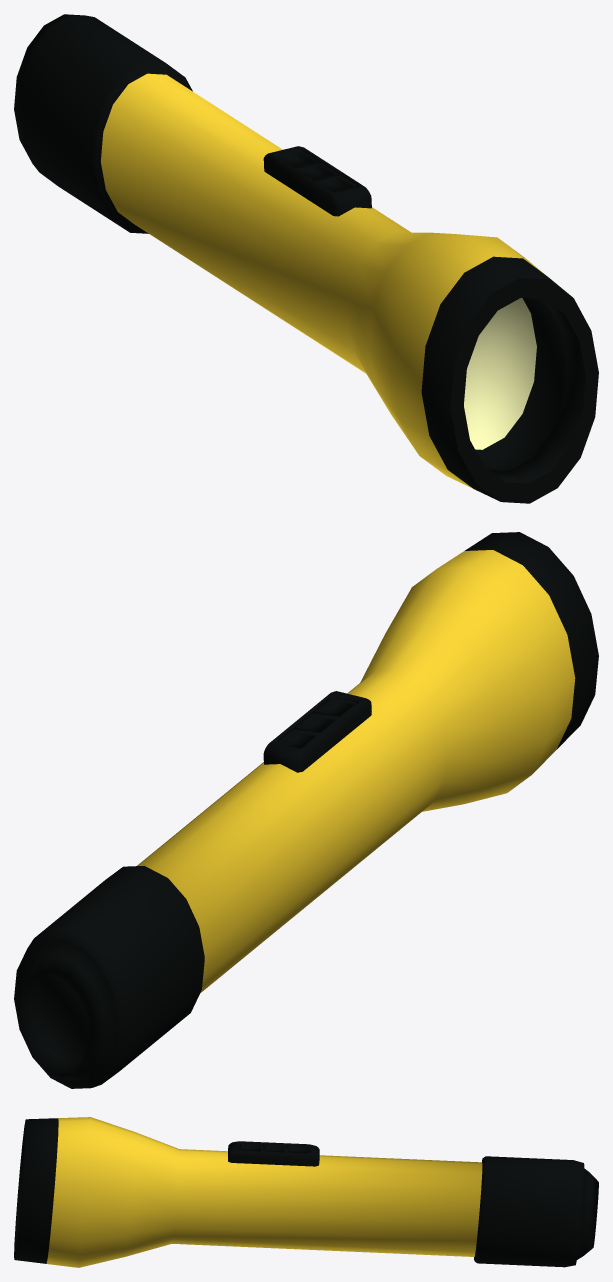
File: Flashlight.fbx
3 renders of one model, top to bottom at view 1: azimuth 30°, elevation 25°; view 2: azimuth 150°, elevation 25°; view 3: azimuth 270°, elevation 25°, orthographic. The views are drawn at different scales.
Parts seen in each view (by area): view 1: Cylinder; view 2: Cylinder; view 3: Cylinder.
Part boxes in pixels (left/top/right/bottom): Cylinder: left=14, top=14, right=598, bottom=503; Cylinder: left=14, top=532, right=598, bottom=1088; Cylinder: left=14, top=1117, right=598, bottom=1267.
Size of the model in its own units: 3.31 by 4.67 by 17.19.
Materials: 1 (1 with a texture image).
